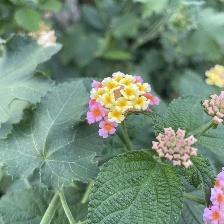common lanthana: (86, 70, 159, 139), (154, 125, 200, 173), (204, 170, 224, 224), (202, 89, 224, 127), (204, 61, 224, 88)
